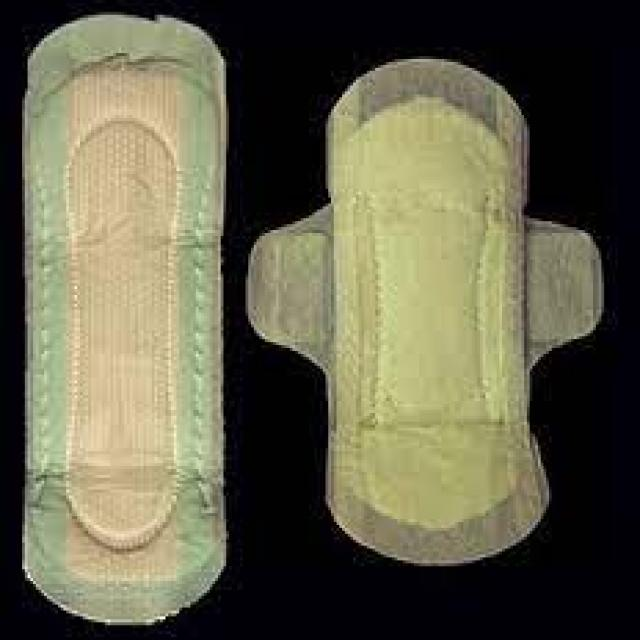napkin: (249, 60, 601, 563), (24, 15, 225, 623)
